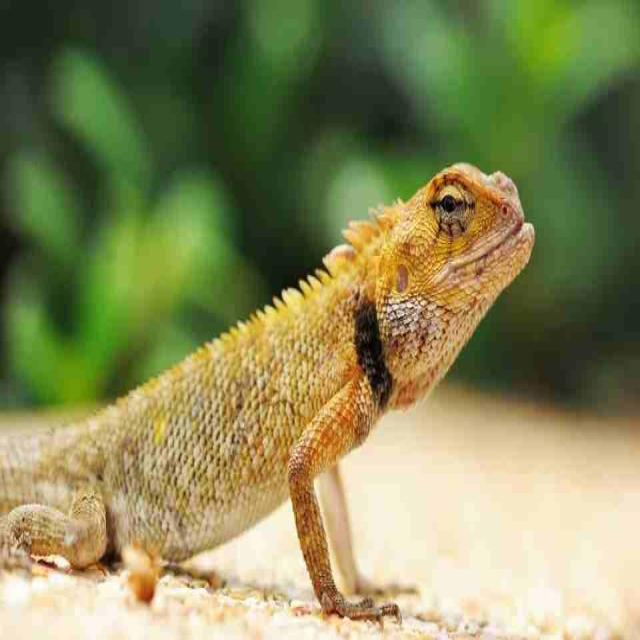Lizard: (0, 148, 541, 608)
